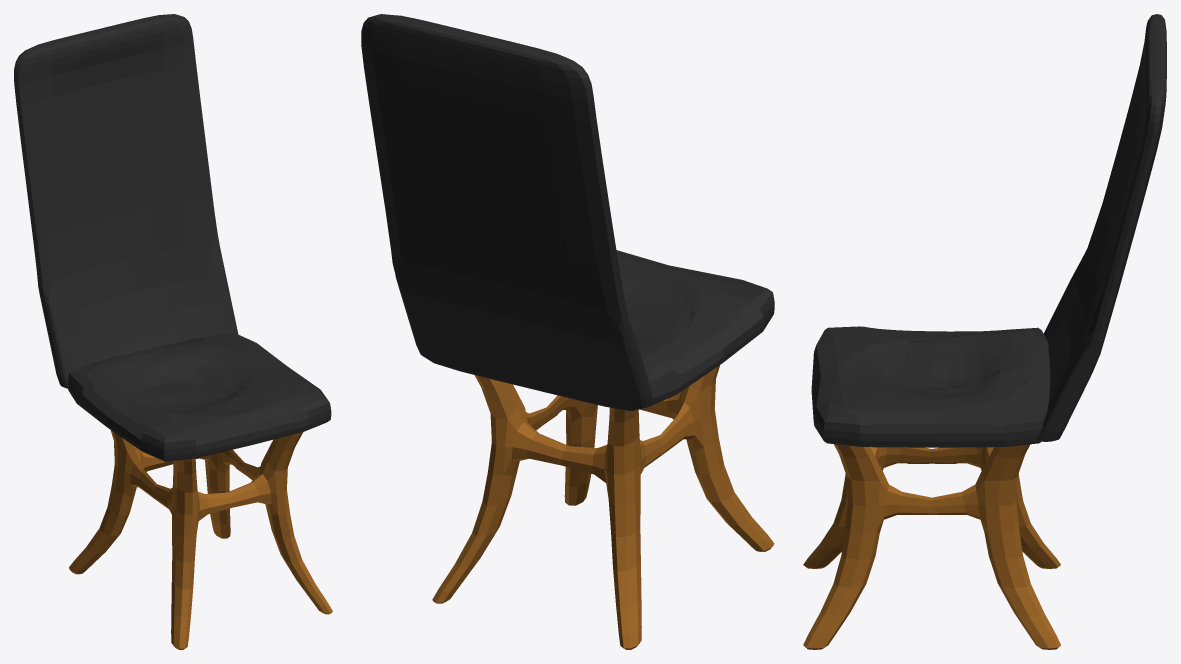
File: Chair.fbx
The picture shows the model from 3 angles, left to right: view 1: azimuth 30°, elevation 25°; view 2: azimuth 150°, elevation 25°; view 3: azimuth 270°, elevation 25°; orthographic projection. The views are drawn at different scales.
Parts seen in each view (by area): view 1: Chair; view 2: Chair; view 3: Chair.
Part boxes in pixels (left/top/right/bottom): Chair: left=14, top=14, right=332, bottom=649; Chair: left=361, top=14, right=774, bottom=649; Chair: left=803, top=14, right=1166, bottom=649.
Bounding box in the file's own units: 216 × 543 × 323.
